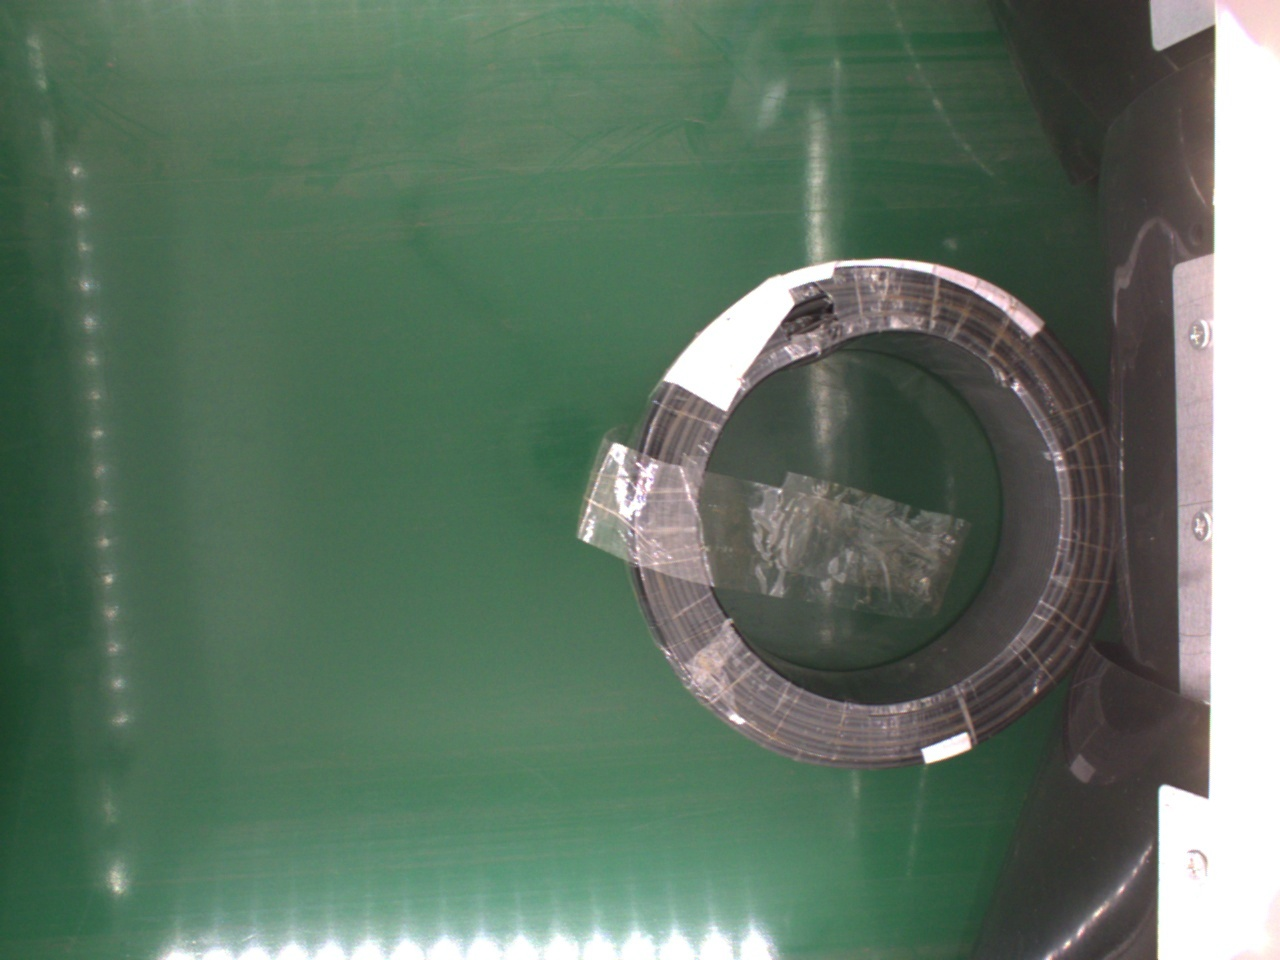black: (621, 258, 1113, 771)
